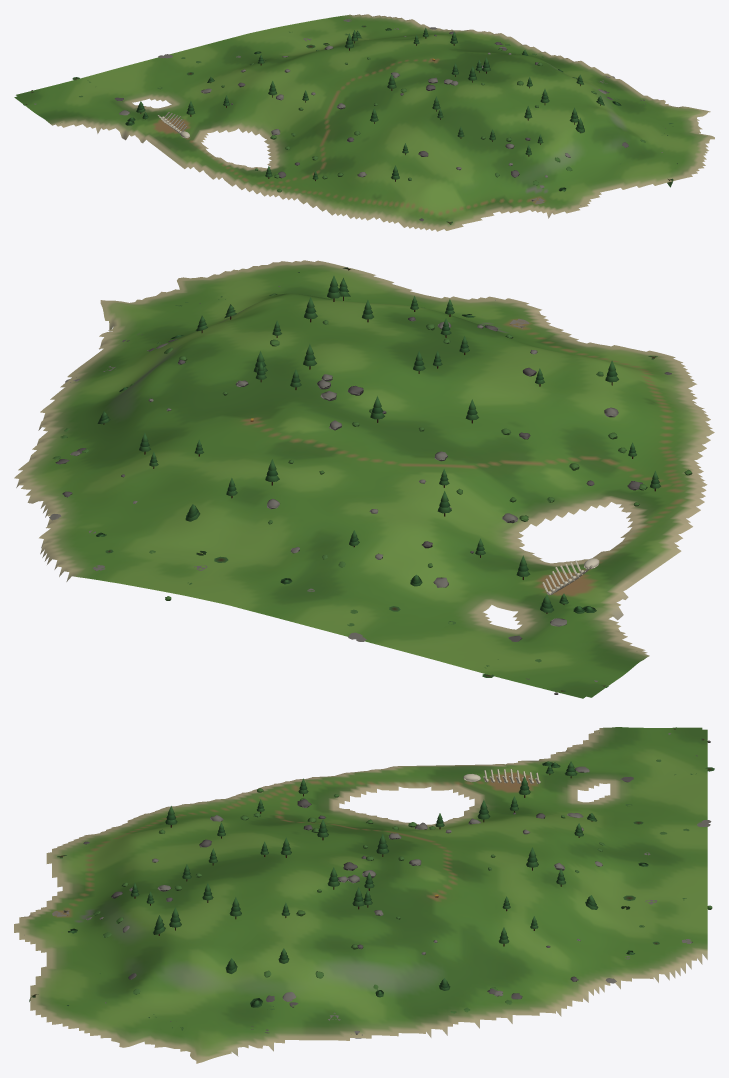
Rendered from arch_isl_coil_isle.glb.
The picture shows the model from 3 angles, top to bottom: view 1: azimuth 30°, elevation 25°; view 2: azimuth 150°, elevation 25°; view 3: azimuth 270°, elevation 25°; orthographic projection. The views are drawn at different scales.
Visible parts, largest first — view 1: arch_isl_coil_isle; view 2: arch_isl_coil_isle; view 3: arch_isl_coil_isle.
Part boxes in pixels (bbox=[...]): arch_isl_coil_isle: bbox=[14, 14, 714, 231]; arch_isl_coil_isle: bbox=[14, 260, 714, 698]; arch_isl_coil_isle: bbox=[14, 727, 714, 1063].
Bounding box in the file's own units: 292 × 32.67 × 259.
